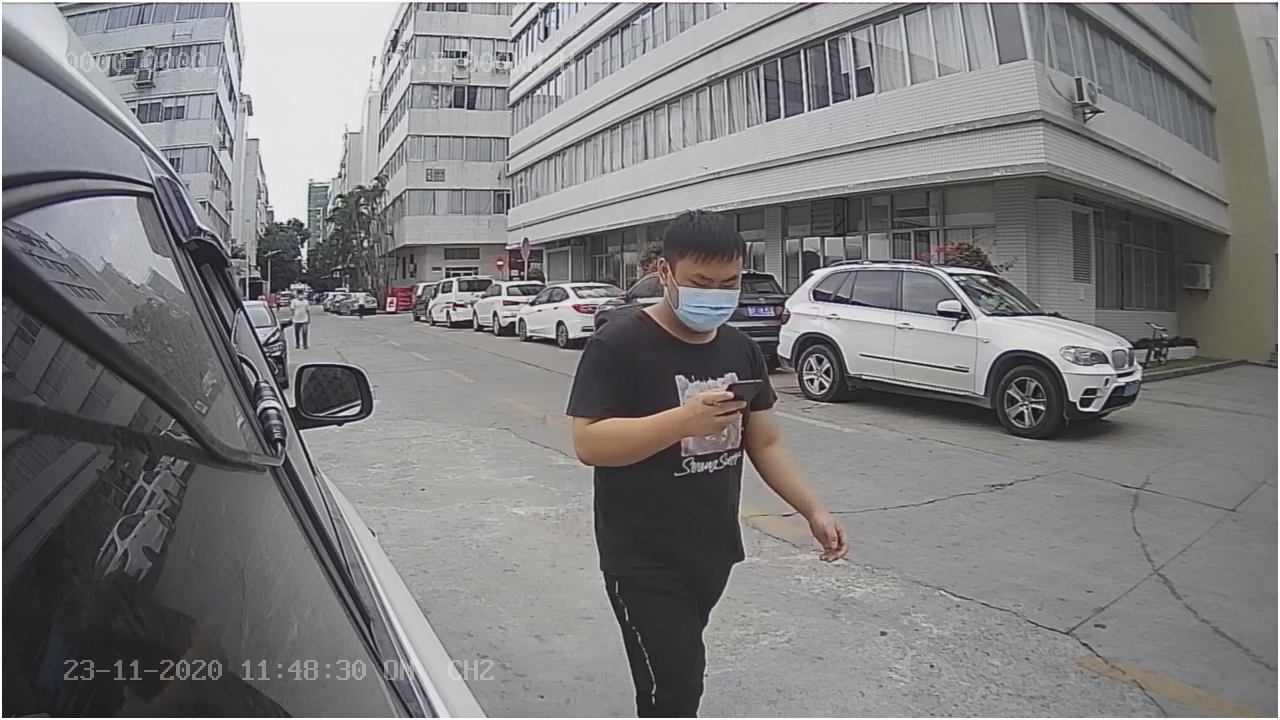person: (564, 208, 848, 574)
